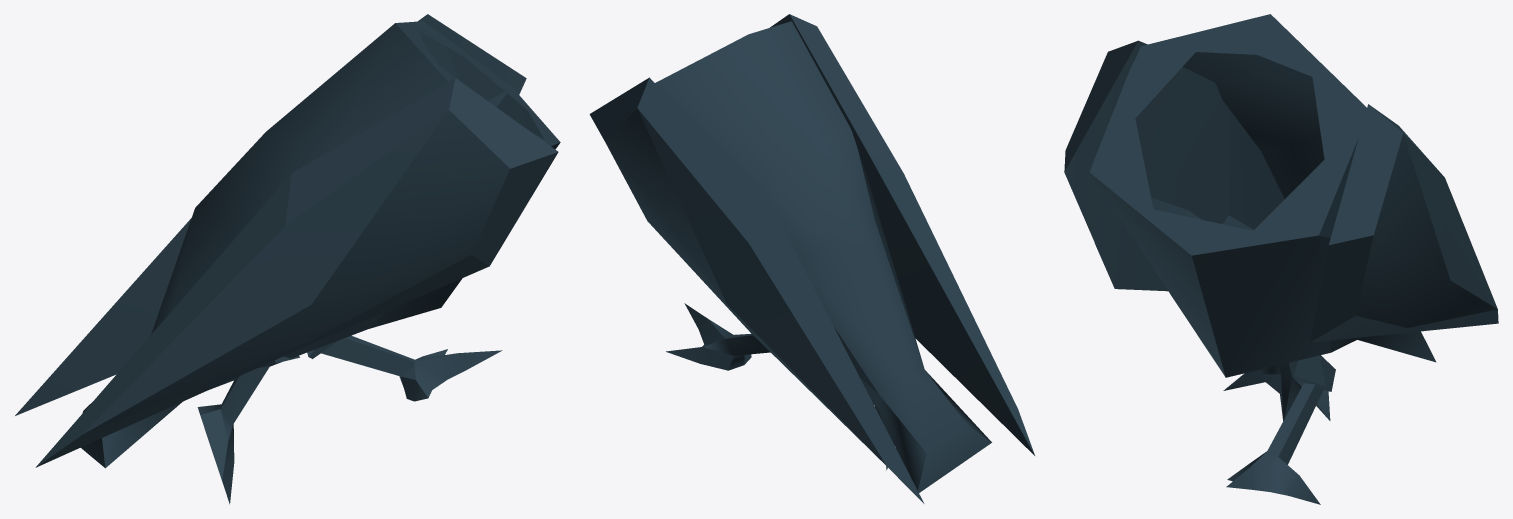
File: ravenBody.fbx
3 views of the same model, side by side, from view 1: azimuth 30°, elevation 25°; view 2: azimuth 150°, elevation 25°; view 3: azimuth 270°, elevation 25° (orthographic). The views are drawn at different scales.
Visible parts, largest first — view 1: Raven_3; view 2: Raven_3; view 3: Raven_3.
Boxes of the visible parts, x1,y1,x2,y2 form: Raven_3: [15, 14, 560, 504]; Raven_3: [589, 14, 1034, 503]; Raven_3: [1064, 14, 1498, 504].
Size of the model in its own units: 1904 by 1639 by 1160.
